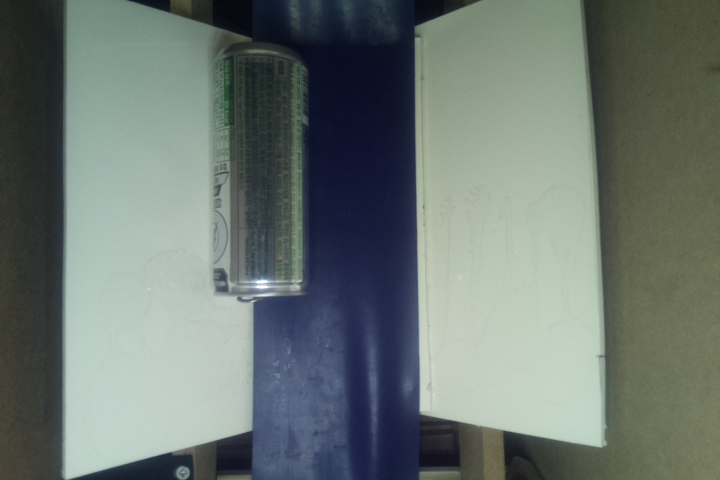can: (211, 42, 314, 306)
